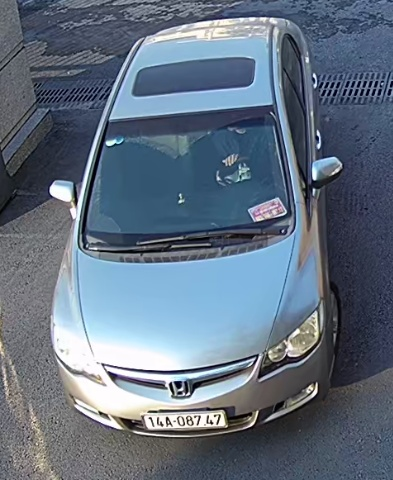vehicle plate: (141, 405, 232, 429)
